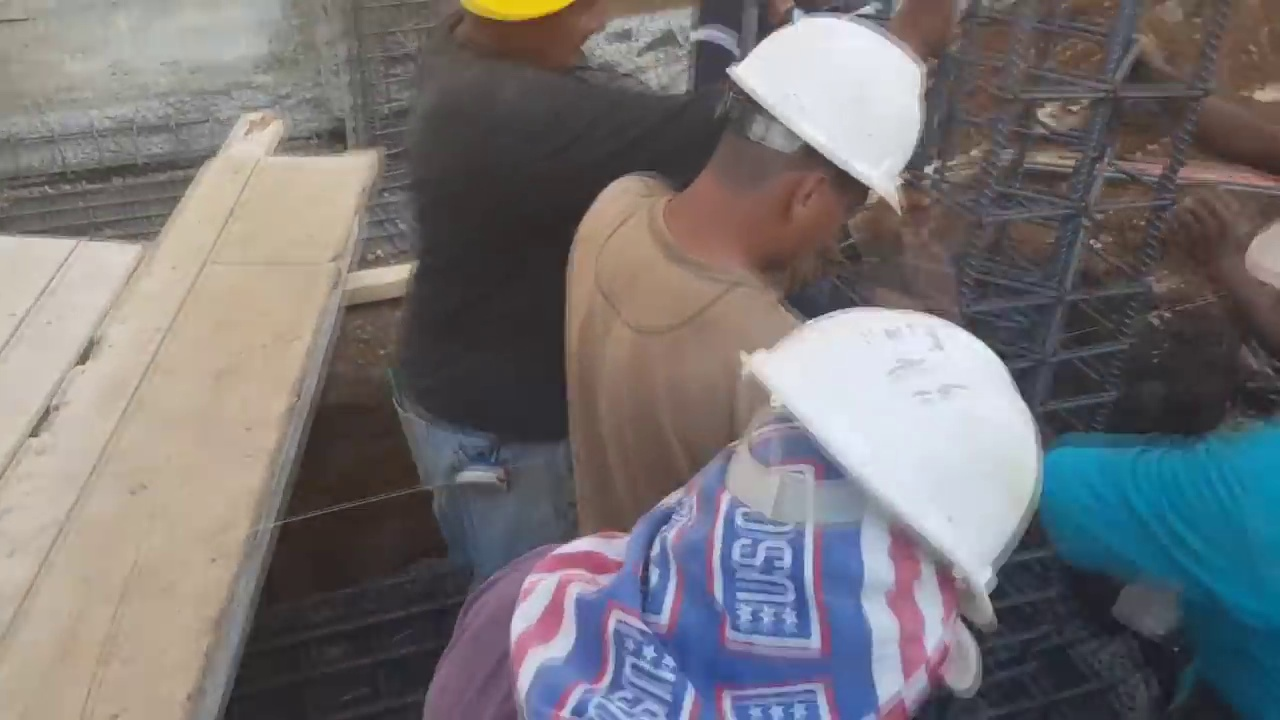helmet: (763, 299, 1045, 581), (727, 18, 924, 212)
helmet-on: (610, 300, 1043, 699), (678, 15, 911, 277), (452, 0, 593, 72)
person: (370, 0, 722, 580), (558, 12, 922, 531)
